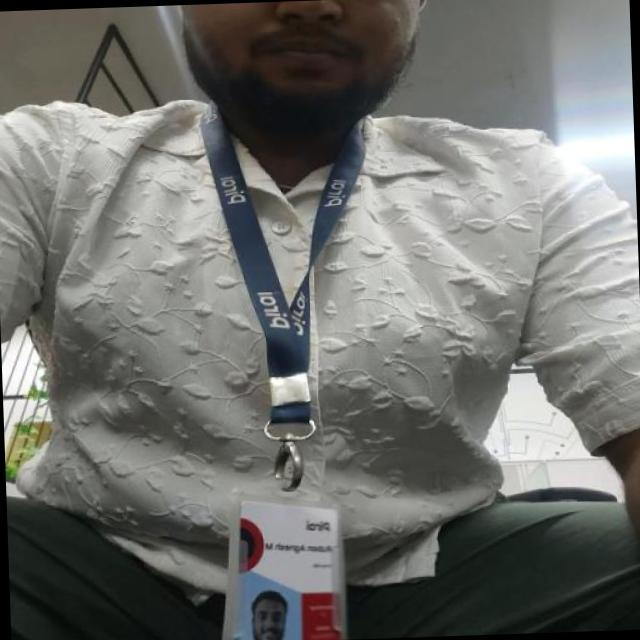id_card: (194, 92, 377, 640)
